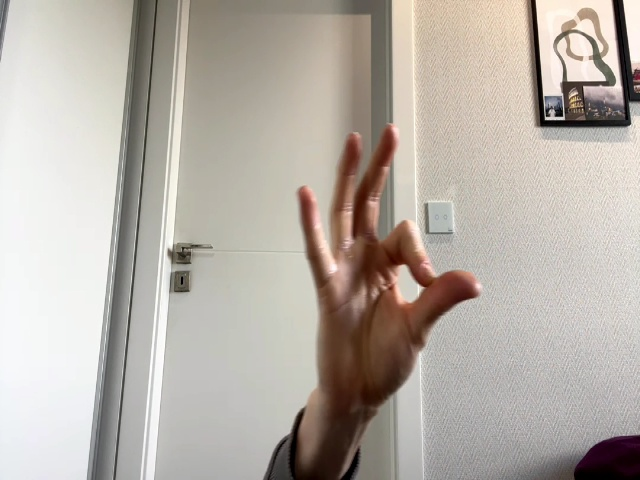S: (298, 125, 482, 394)
